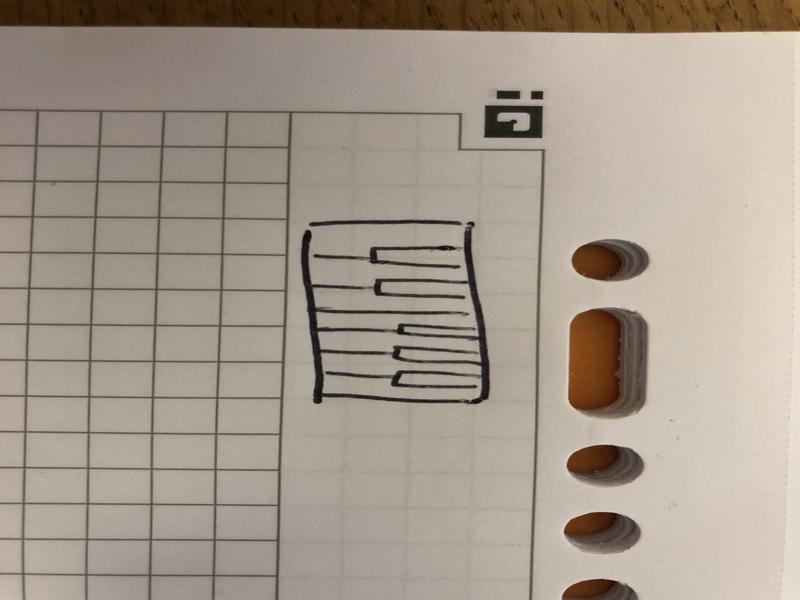piano: (302, 215, 492, 409)
